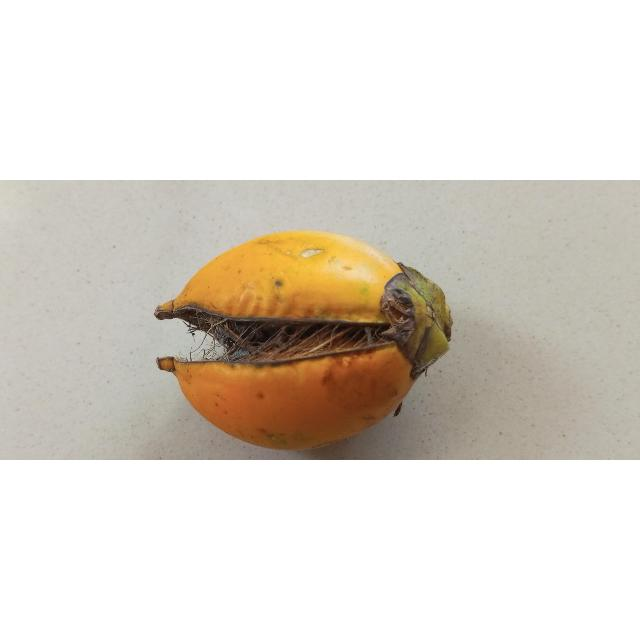damaged: (154, 231, 455, 452)
